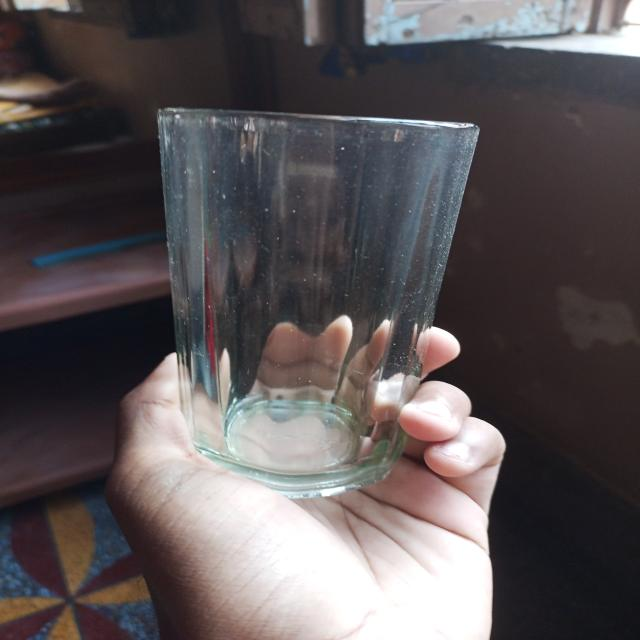Glass: (152, 104, 482, 503)
